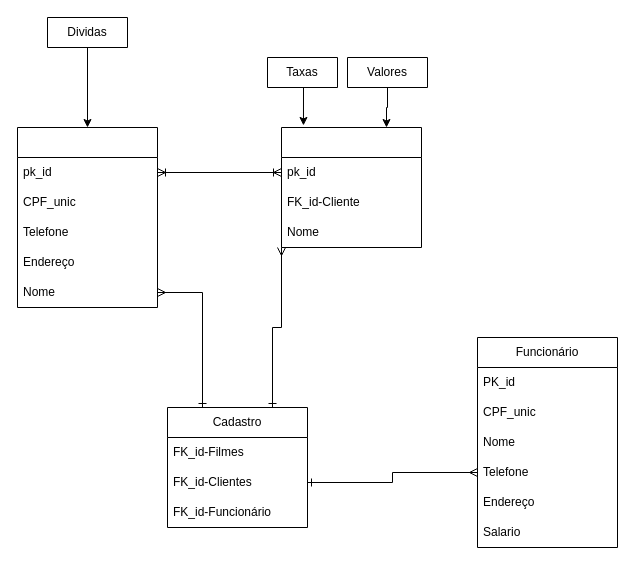
Some shapes in this 635 by 565 pixel diagram are drawn without their labels. The box of each missing label's shape, as (x1, y1, x2, y2) in pixels:
Cliente: (16, 126, 158, 308)
Filmes: (280, 126, 422, 248)
